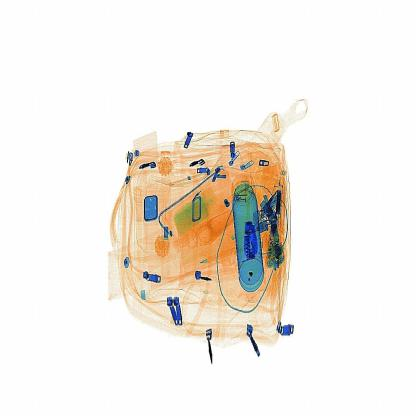scissors: (239, 216, 264, 262)
